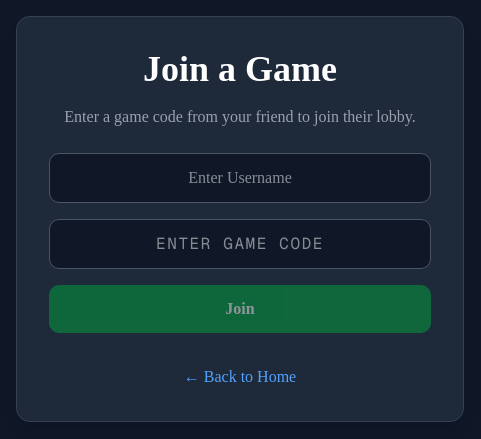
Scenario: JoinGamePage › enables join button only when both username and game code are filled
Enter username only
Type "Alice" into the field with placeholder "Enter Username". click: (240, 178)
box: 49,153 -> 431,203
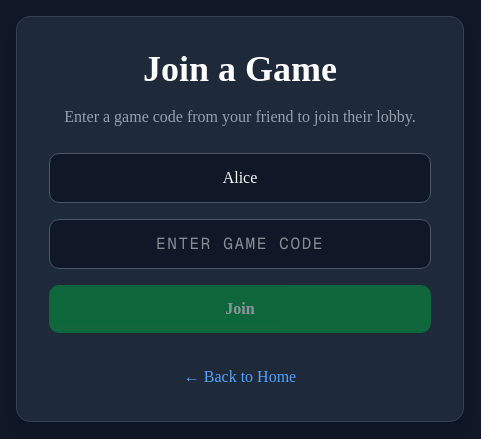
Check: the button "Join" is disabled, box 49,285 -> 431,333
Enter room code only (clear username first)
Clear the field with placeholder "Enter Username". click: (240, 178)
box: 49,153 -> 431,203
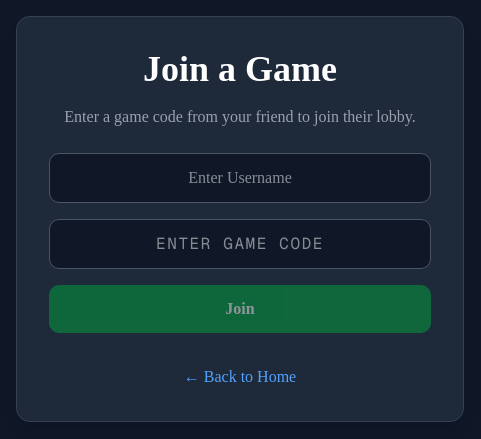
Type "ABCD" into the field with placeholder "Enter Game Code". click: (240, 244)
box: 49,219 -> 431,269
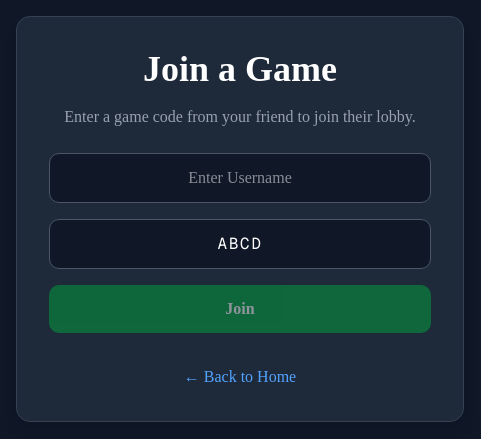
Check: the button "Join" is disabled, box 49,285 -> 431,333
Enter both
Type "Alice" into the field with placeholder "Enter Username". click: (240, 178)
box: 49,153 -> 431,203
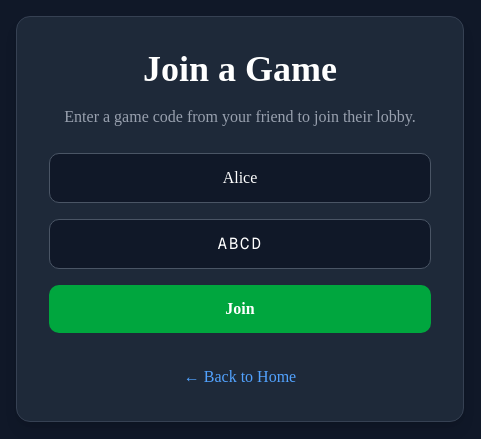
Check: the button "Join" is enabled, box 49,285 -> 431,333
